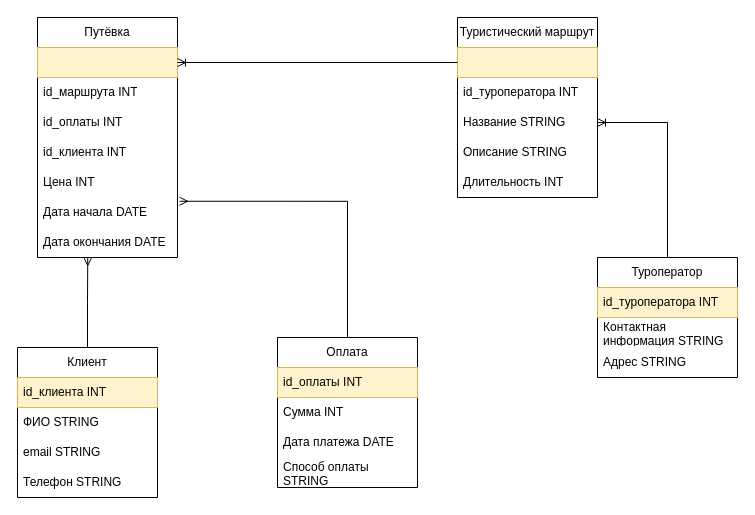
Image size: 755x515. Some labels were removed from this diagram. Here are the shapes that lost their labels. From the top down, the centre of each, then its label:
At [107,62]: "id_путевки INT".
At [527,62]: "id_машрута INT".
